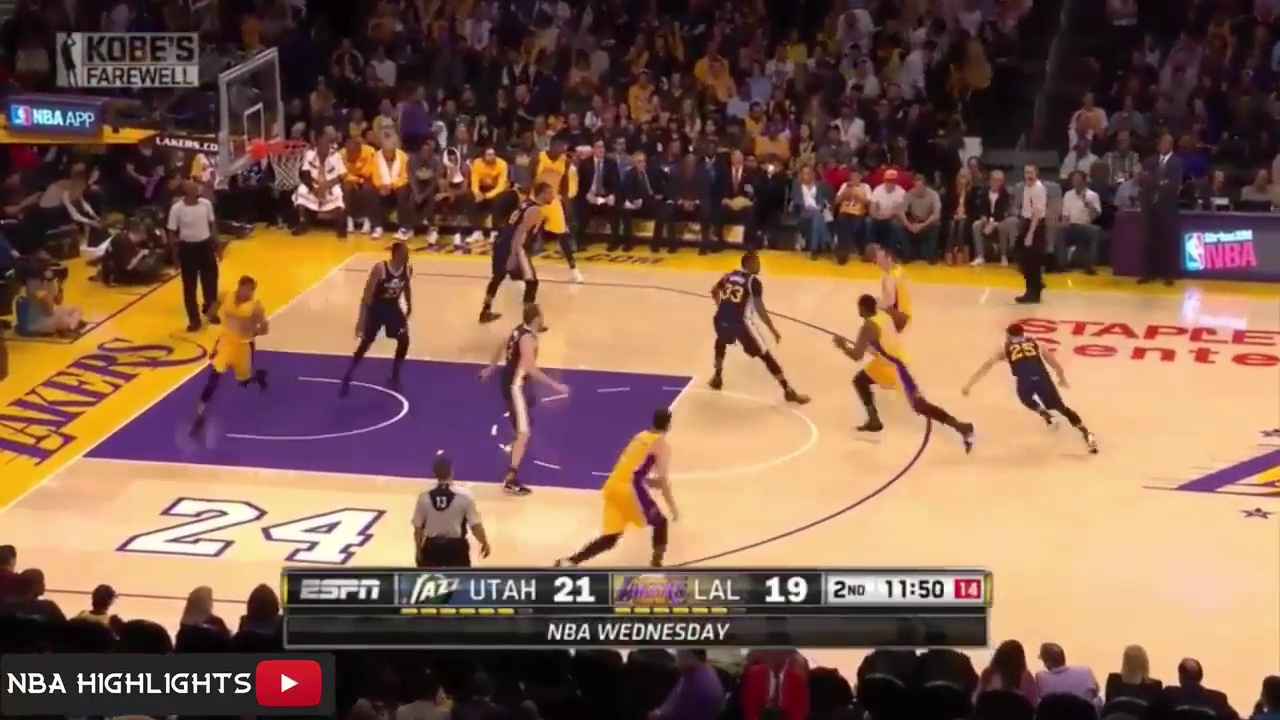jazz: (966, 323, 1100, 451), (485, 303, 570, 495), (711, 248, 812, 406), (346, 240, 421, 395), (484, 186, 558, 328)
lakers: (841, 296, 974, 447), (564, 410, 683, 563), (192, 268, 276, 434), (530, 140, 584, 272), (874, 244, 916, 337)
